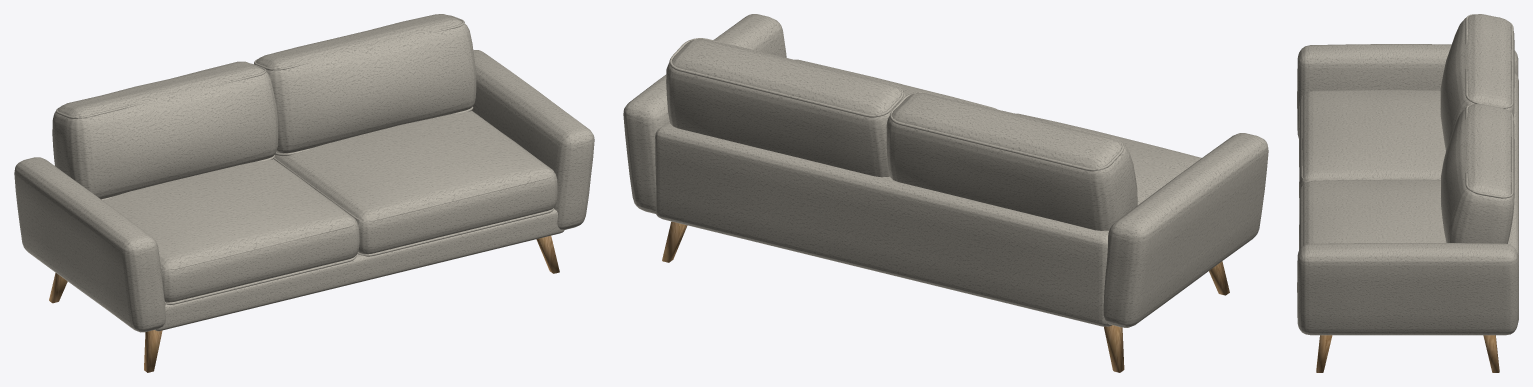
File: flare-arm-sofa.glb
3 renders of one model, left to right at view 1: azimuth 30°, elevation 25°; view 2: azimuth 150°, elevation 25°; view 3: azimuth 270°, elevation 25°, orthographic. The views are drawn at different scales.
Parts seen in each view (by area): view 1: seat1, seat0, backc0, backc1, armL, base, armR, seatpipe11, seatpipe00, seatpipe10, leg0, backpipe01 (+2 smaller); view 2: backframe, backc0, backc1, armL, armR, seat0, backpipe01, backpipe11, leg2, leg3, seat1; view 3: armR, seat0, backc1, seat1, armL, backc0, backframe, backpipe01, backpipe11, leg1, leg3.
Boxes of the visible parts, x1,y1,x2,y2 form: seat1: [274, 110, 557, 254]; seat0: [103, 159, 359, 302]; backc0: [52, 61, 278, 199]; backc1: [256, 14, 476, 153]; armL: [14, 157, 165, 332]; base: [155, 209, 564, 331]; armR: [472, 50, 594, 229]; seatpipe11: [274, 158, 554, 221]; seatpipe00: [165, 255, 356, 304]; seatpipe10: [357, 208, 554, 256]; leg0: [144, 330, 162, 372]; backpipe01: [55, 64, 266, 118]; backframe: [655, 121, 1108, 326]; backc0: [886, 92, 1137, 230]; backc1: [666, 39, 906, 177]; armL: [1103, 133, 1268, 327]; armR: [623, 14, 786, 213]; seat0: [1014, 113, 1201, 204]; backpipe01: [889, 92, 1124, 171]; backpipe11: [669, 38, 903, 117]; leg2: [1104, 325, 1124, 372]; leg3: [662, 221, 687, 262]; seat1: [794, 59, 997, 109]; armR: [1297, 243, 1518, 335]; seat0: [1299, 90, 1445, 197]; backc1: [1440, 104, 1514, 243]; seat1: [1299, 179, 1446, 249]; armL: [1297, 44, 1518, 138]; backc0: [1440, 14, 1514, 150]; backframe: [1508, 73, 1518, 322]; backpipe01: [1465, 14, 1513, 108]; backpipe11: [1465, 104, 1513, 198]; leg1: [1316, 335, 1332, 372]; leg3: [1483, 335, 1499, 372].
Bounding box in the file's own units: 2.09 × 0.8286 × 0.9193.
2 materials, 2 textured.
